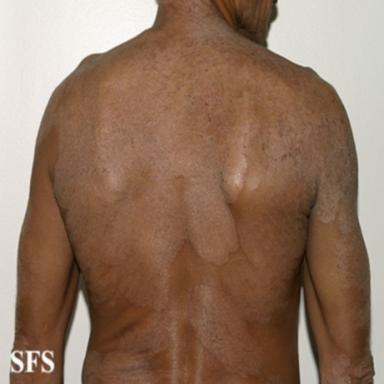Tinea-Corporis: (36, 1, 371, 328), (85, 284, 264, 384), (324, 356, 372, 383)
